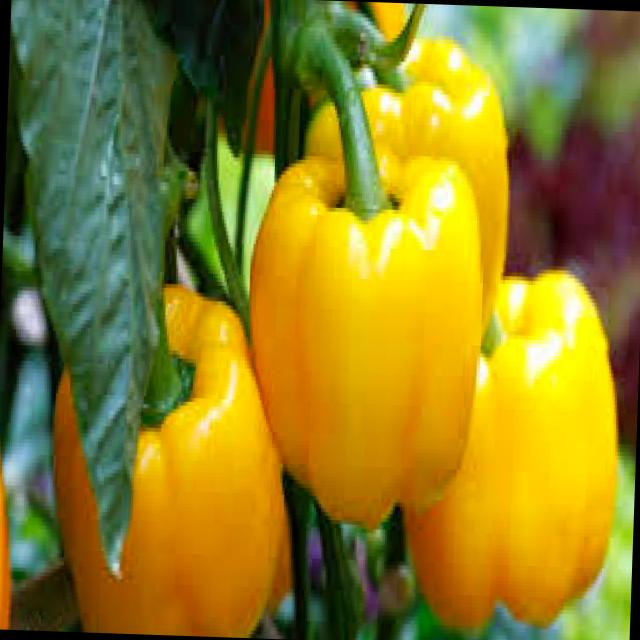Bell pepper: (35, 276, 282, 638), (240, 149, 476, 507), (400, 264, 628, 632), (288, 22, 524, 320), (0, 378, 28, 629)
